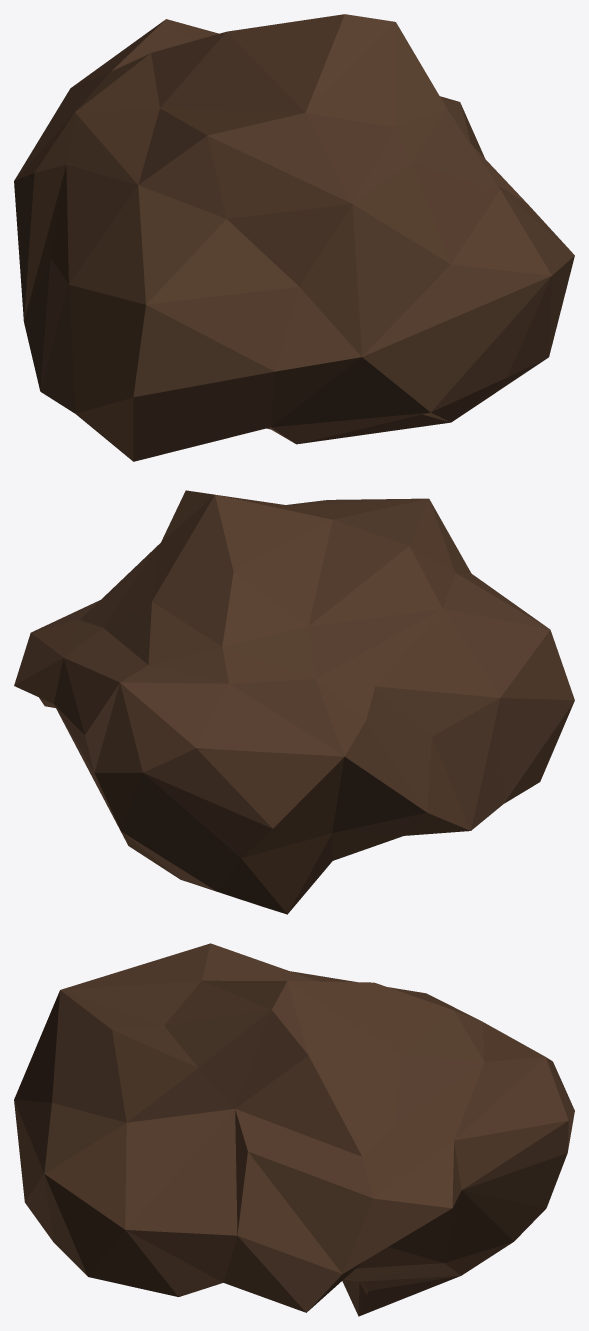
File: my_mesh_rock SubTool11.glb
3 views of the same model, one above another, from view 1: azimuth 30°, elevation 25°; view 2: azimuth 150°, elevation 25°; view 3: azimuth 270°, elevation 25° (orthographic). The views are drawn at different scales.
Parts seen in each view (by area): view 1: rock SubTool11; view 2: rock SubTool11; view 3: rock SubTool11.
Part boxes in pixels (left/top/right/bottom): rock SubTool11: left=14, top=14, right=574, bottom=461; rock SubTool11: left=14, top=490, right=574, bottom=914; rock SubTool11: left=14, top=943, right=574, bottom=1316.
Size of the model in its own units: 56.48 by 45.7 by 61.54.
1 material, 1 textured.
